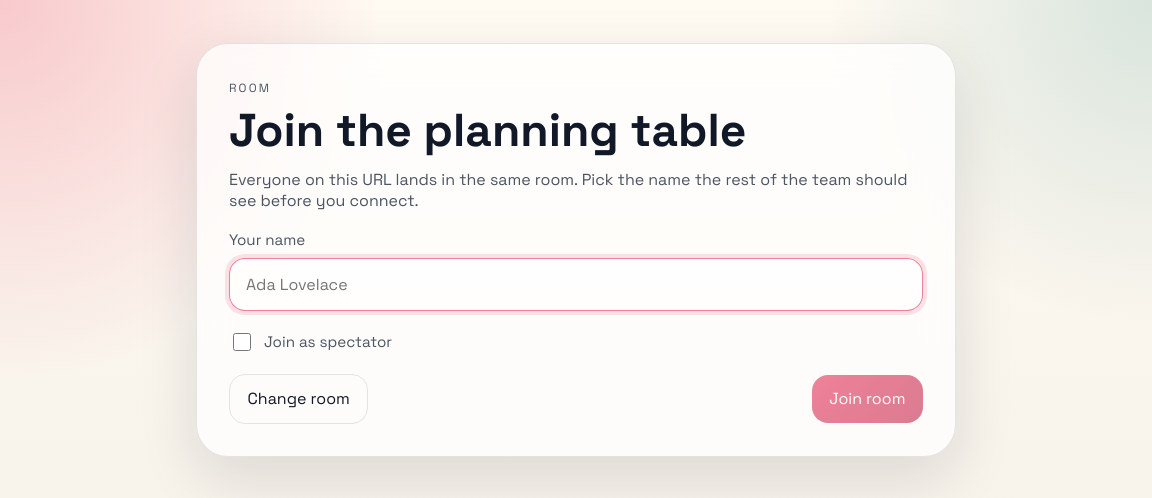
shows Watch room when spectator checkbox is checked
This screenshot has width=1152, height=498.
Click the checkbox labelled "Join as spectator". click: x=242, y=342
box: [233,333,251,351]
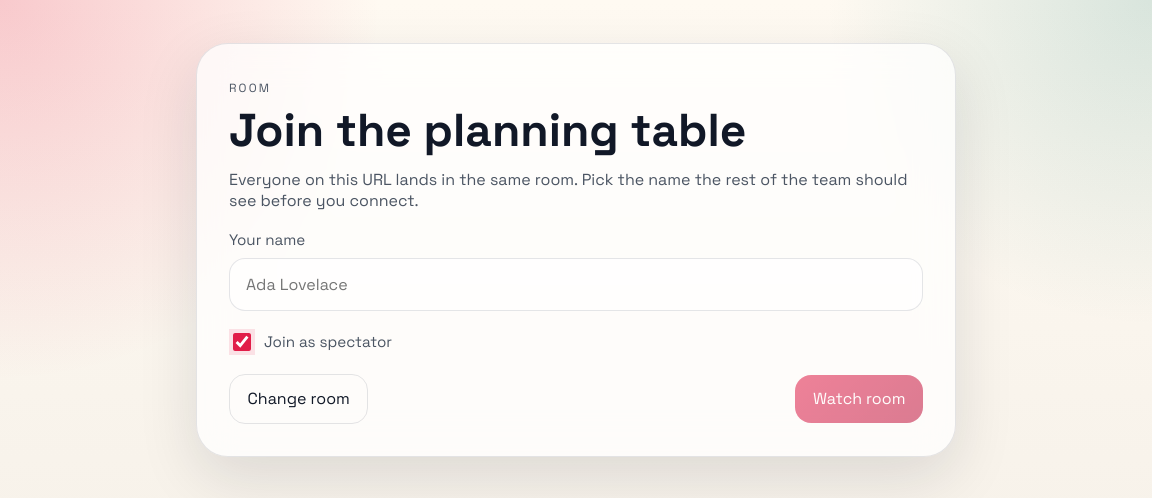
Expected: the button "Watch room" is shown, [795,375,923,423]
